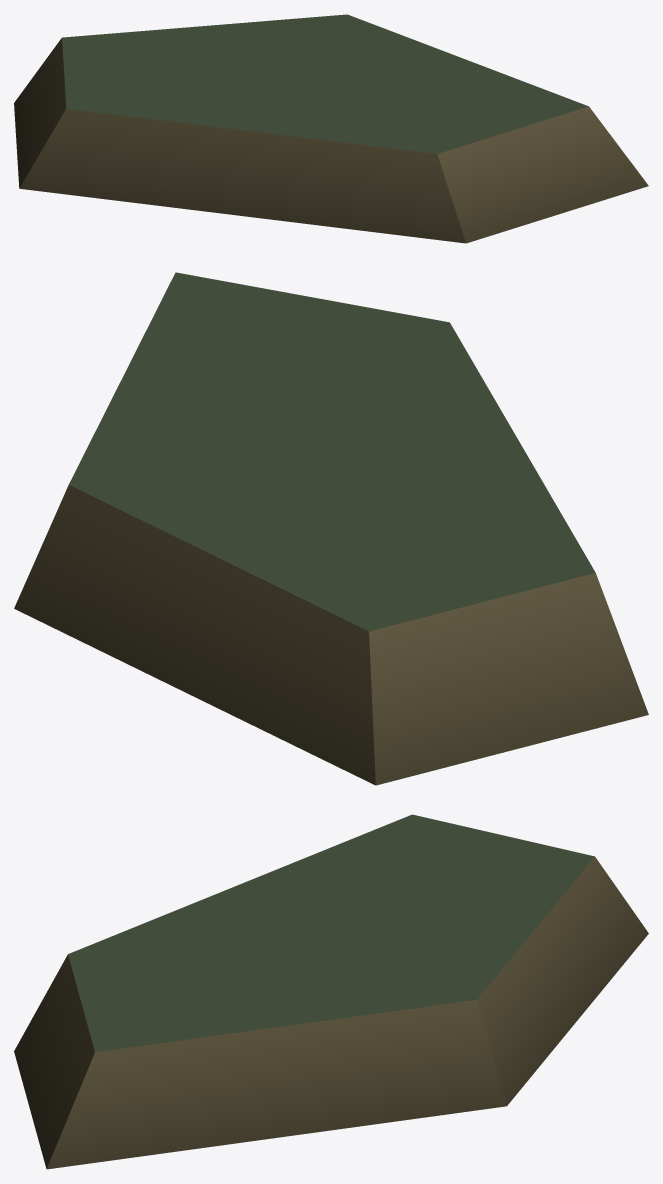
The model's file is findling_flach.glb.
3 renders of one model, top to bottom at view 1: azimuth 30°, elevation 25°; view 2: azimuth 150°, elevation 25°; view 3: azimuth 270°, elevation 25°, orthographic. The views are drawn at different scales.
Parts seen in each view (by area): view 1: findling_flach; view 2: findling_flach; view 3: findling_flach.
Boxes of the visible parts, <box> form: findling_flach: <box>14,14,648,243</box>; findling_flach: <box>14,272,648,785</box>; findling_flach: <box>14,814,648,1169</box>.
Size of the model in its own units: 2.98 by 0.45 by 2.79.
